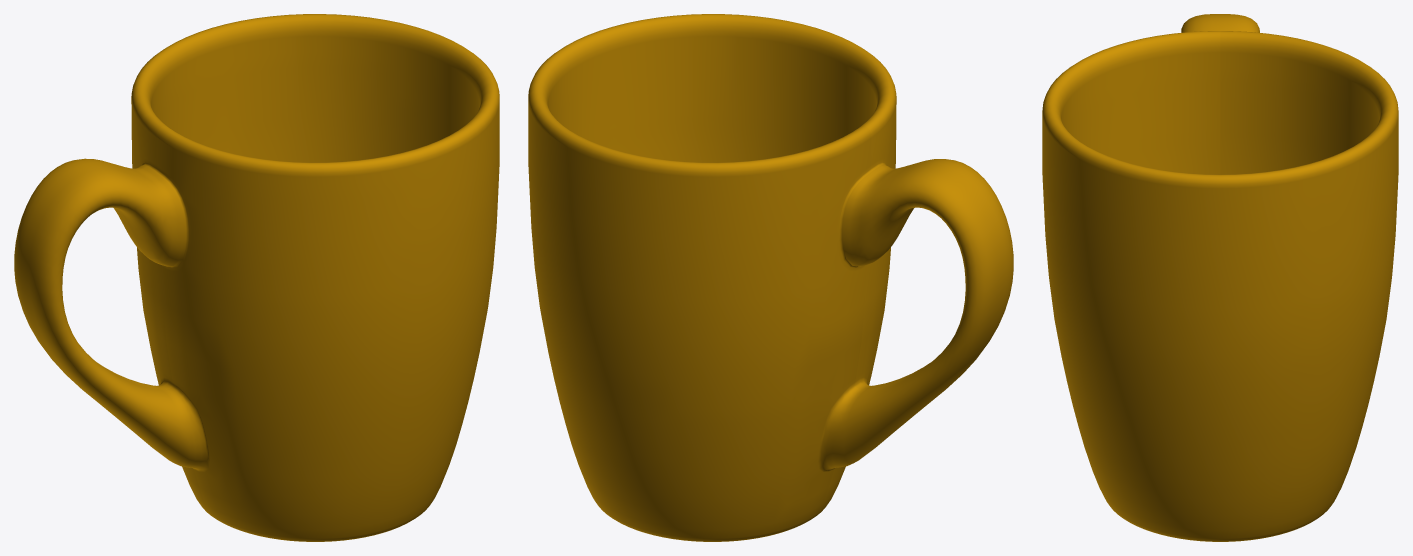
File: SR-dishware_cup_tea_a01.glb
3 views of the same model, side by side, from view 1: azimuth 30°, elevation 25°; view 2: azimuth 150°, elevation 25°; view 3: azimuth 270°, elevation 25° (orthographic). The views are drawn at different scales.
Parts seen in each view (by area): view 1: cupTea_01_mesh_00; view 2: cupTea_01_mesh_00; view 3: cupTea_01_mesh_00.
Part boxes in pixels (<box>): cupTea_01_mesh_00: <box>14,14,499,541</box>; cupTea_01_mesh_00: <box>528,14,1013,541</box>; cupTea_01_mesh_00: <box>1042,14,1398,541</box>.
Size of the model in its own units: 0.1188 by 0.1019 by 0.0842.
1 material, 1 textured.
